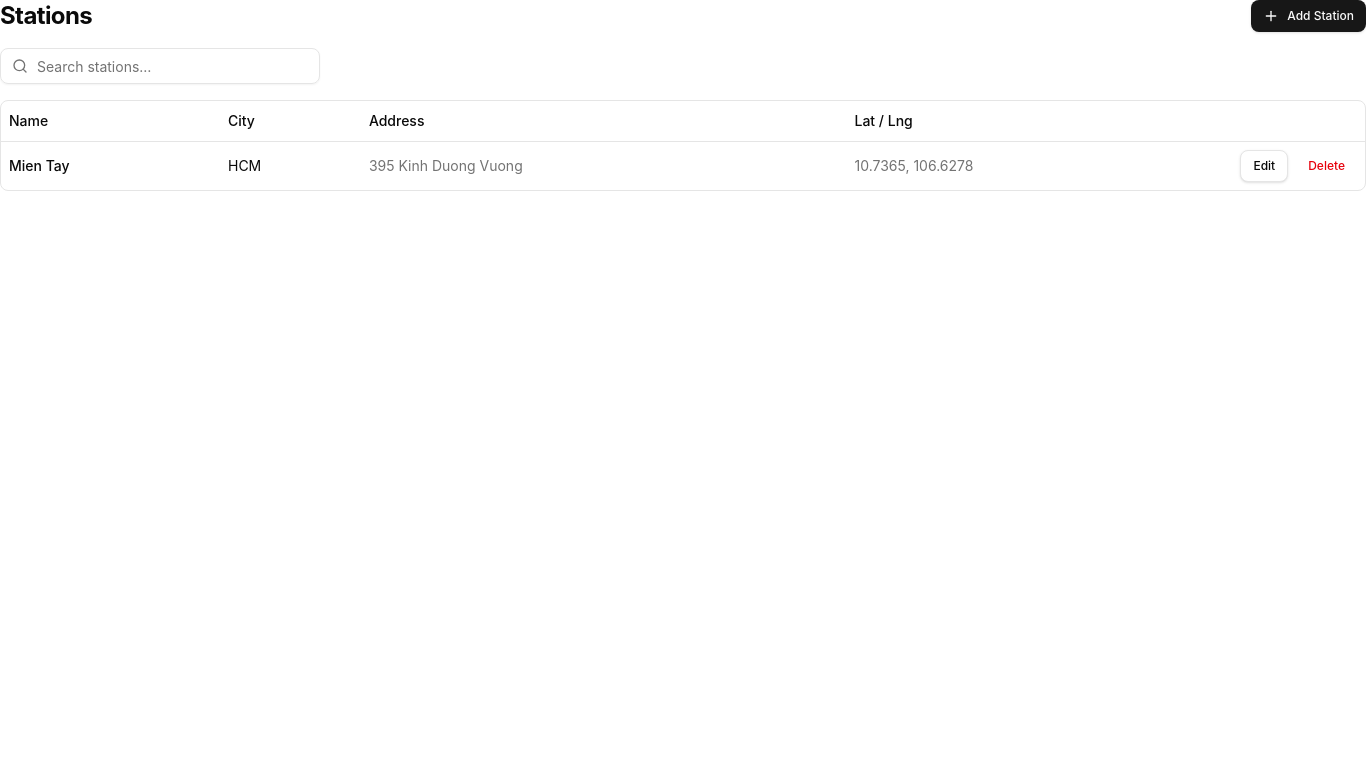
Test: StationsPage › opens delete dialog when Delete is clicked
Click the button "Delete": (1327, 166) [1296,150,1357,182]
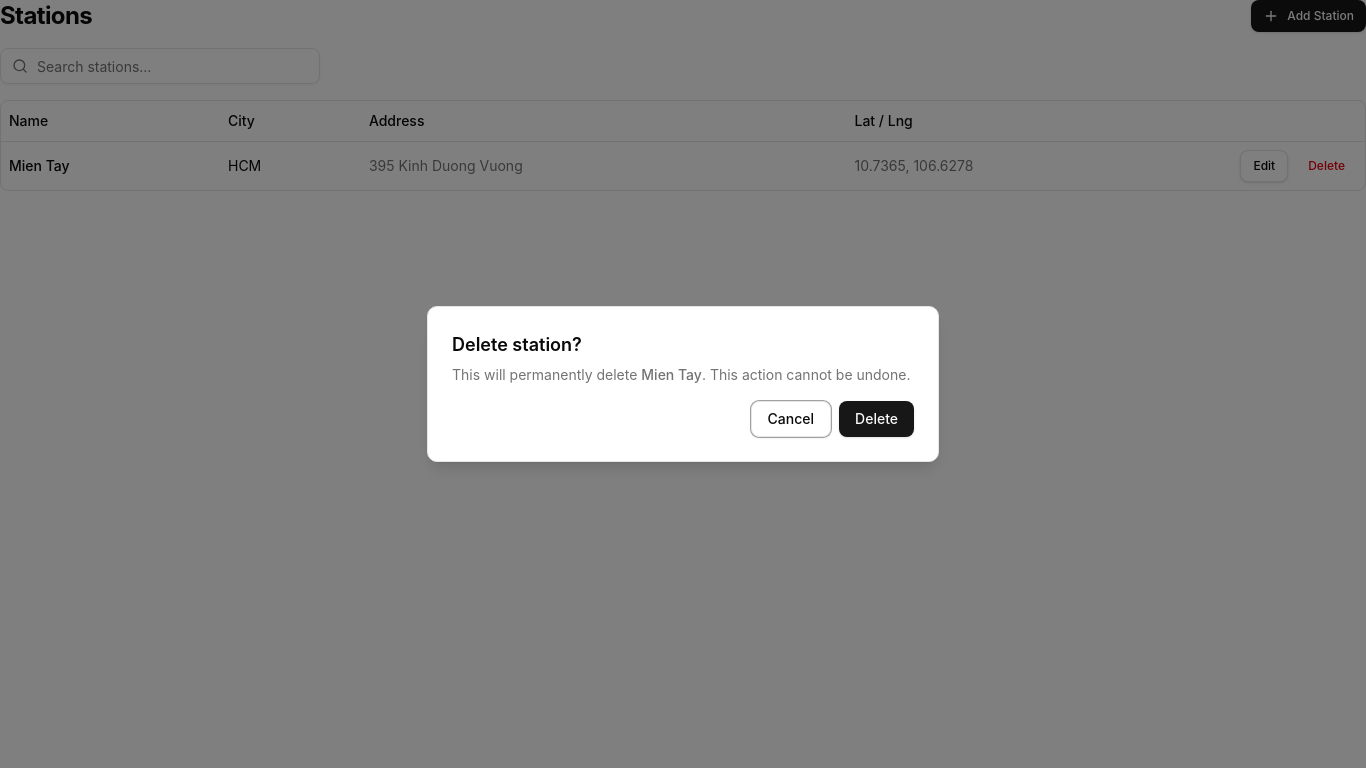
Result: the dialog is shown at [427,306,939,462]
